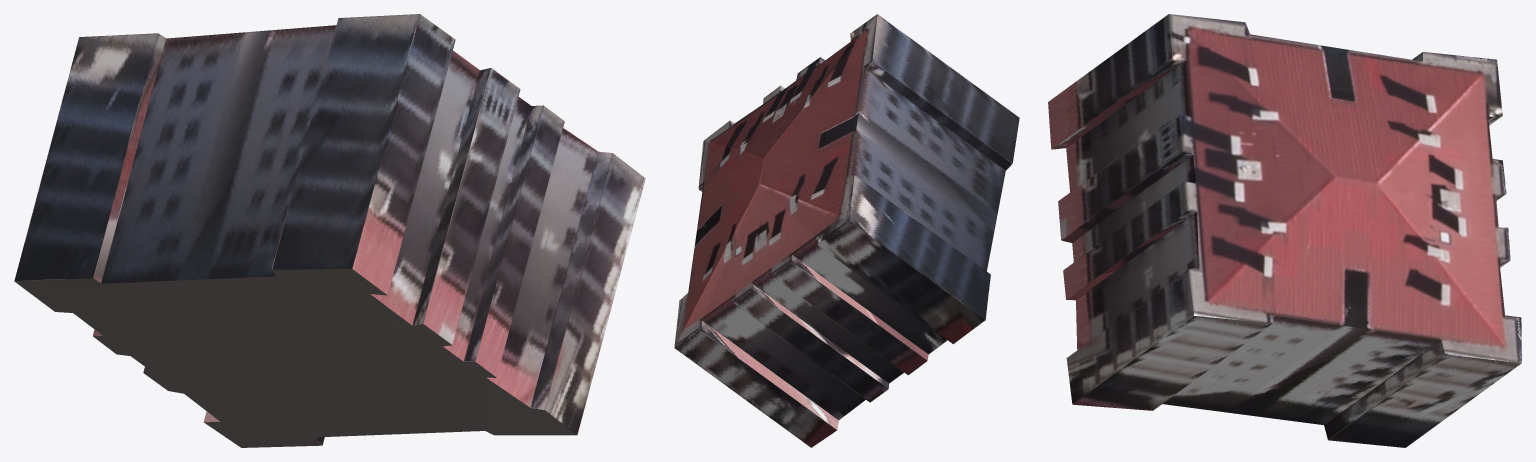
3 renders of one model, left to right at view 1: azimuth 30°, elevation 25°; view 2: azimuth 150°, elevation 25°; view 3: azimuth 270°, elevation 25°, orthographic. The views are drawn at different scales.
Bounding box in the file's own units: 39.39 × 37.81 × 36.
Materials: 1 (1 with a texture image).
